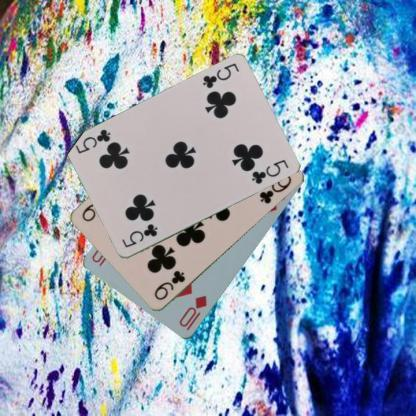10d: (176, 293, 209, 332)
5c: (119, 221, 159, 250), (200, 61, 240, 90)
9c: (152, 268, 186, 302)
